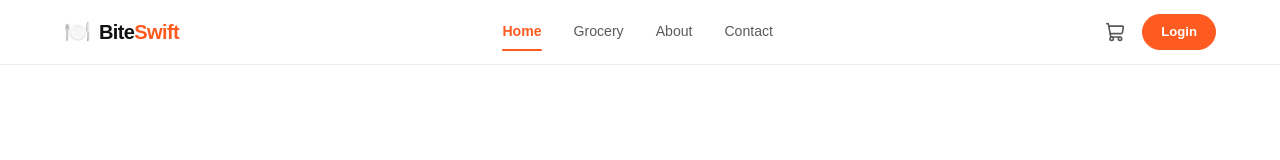
it: Header › toggles Login to Logout and back
Click the button "Login": click(1179, 32) left=1142, top=14, right=1216, bottom=50
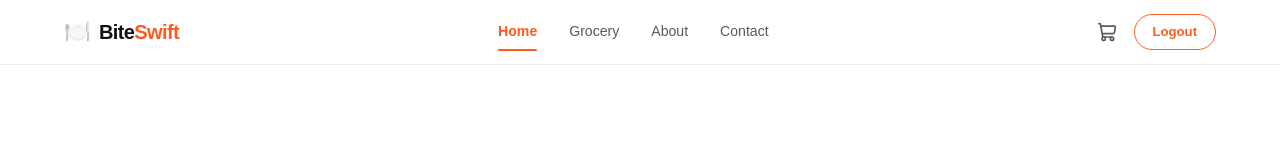
Expected: the button "Logout" is shown
Click the button "Logout": click(1175, 32) left=1134, top=14, right=1216, bottom=50
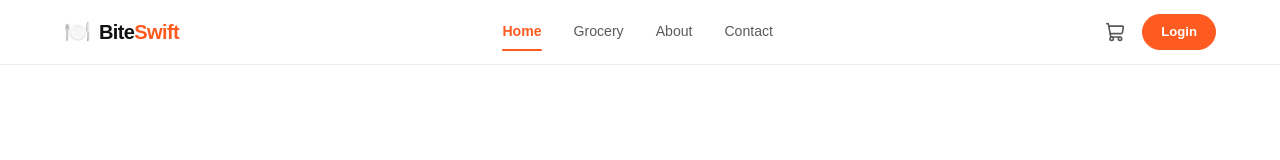
Expected: the button "Login" is shown, left=1142, top=14, right=1216, bottom=50
